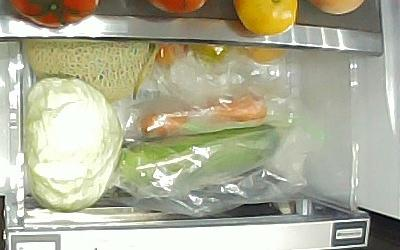cabbage: (23, 77, 123, 213)
carrot_vinyl: (139, 92, 266, 137)
melon: (23, 39, 149, 100)
pear_vinyl: (240, 46, 287, 64)
tangerine_vinyl: (190, 43, 232, 63)
tomato_vinyl: (149, 41, 190, 68)
zucchini_vinyl: (119, 121, 292, 195)
